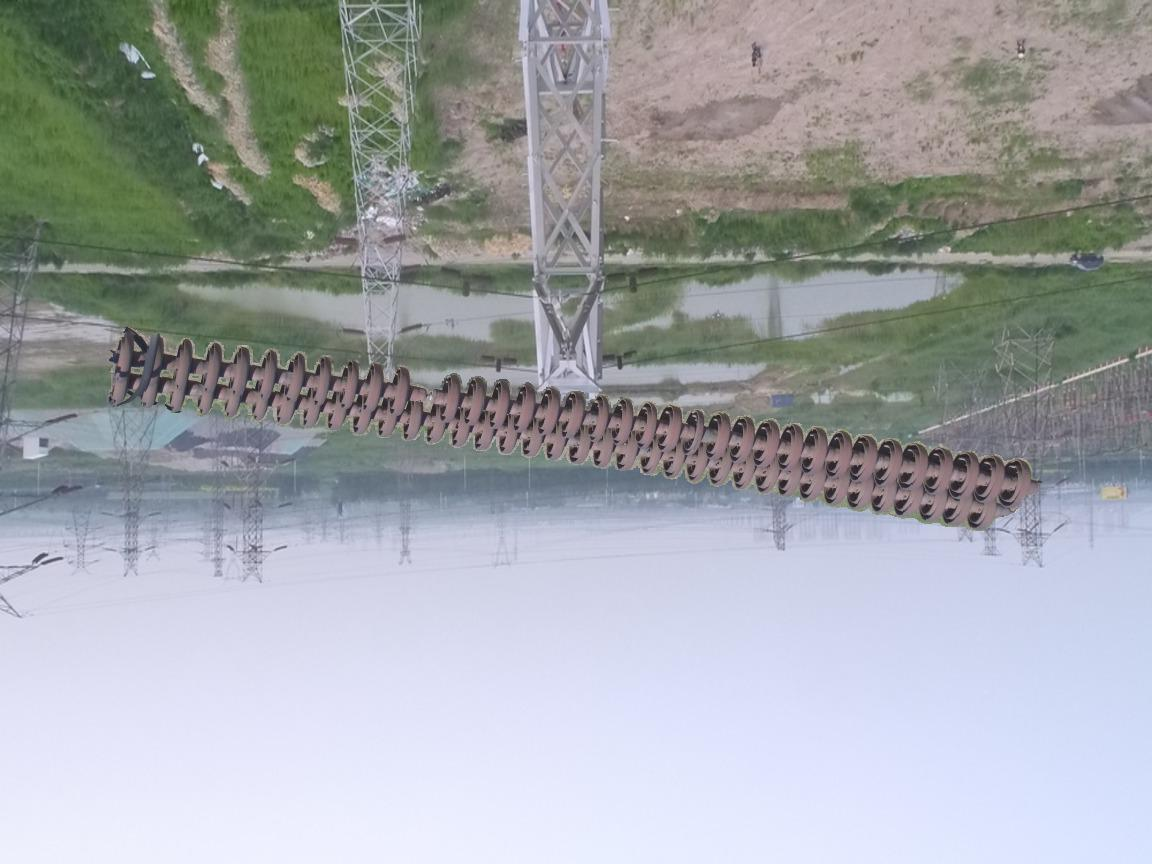insulator: (104, 325, 1033, 536)
insulator_stringdrop: (384, 363, 465, 425)
